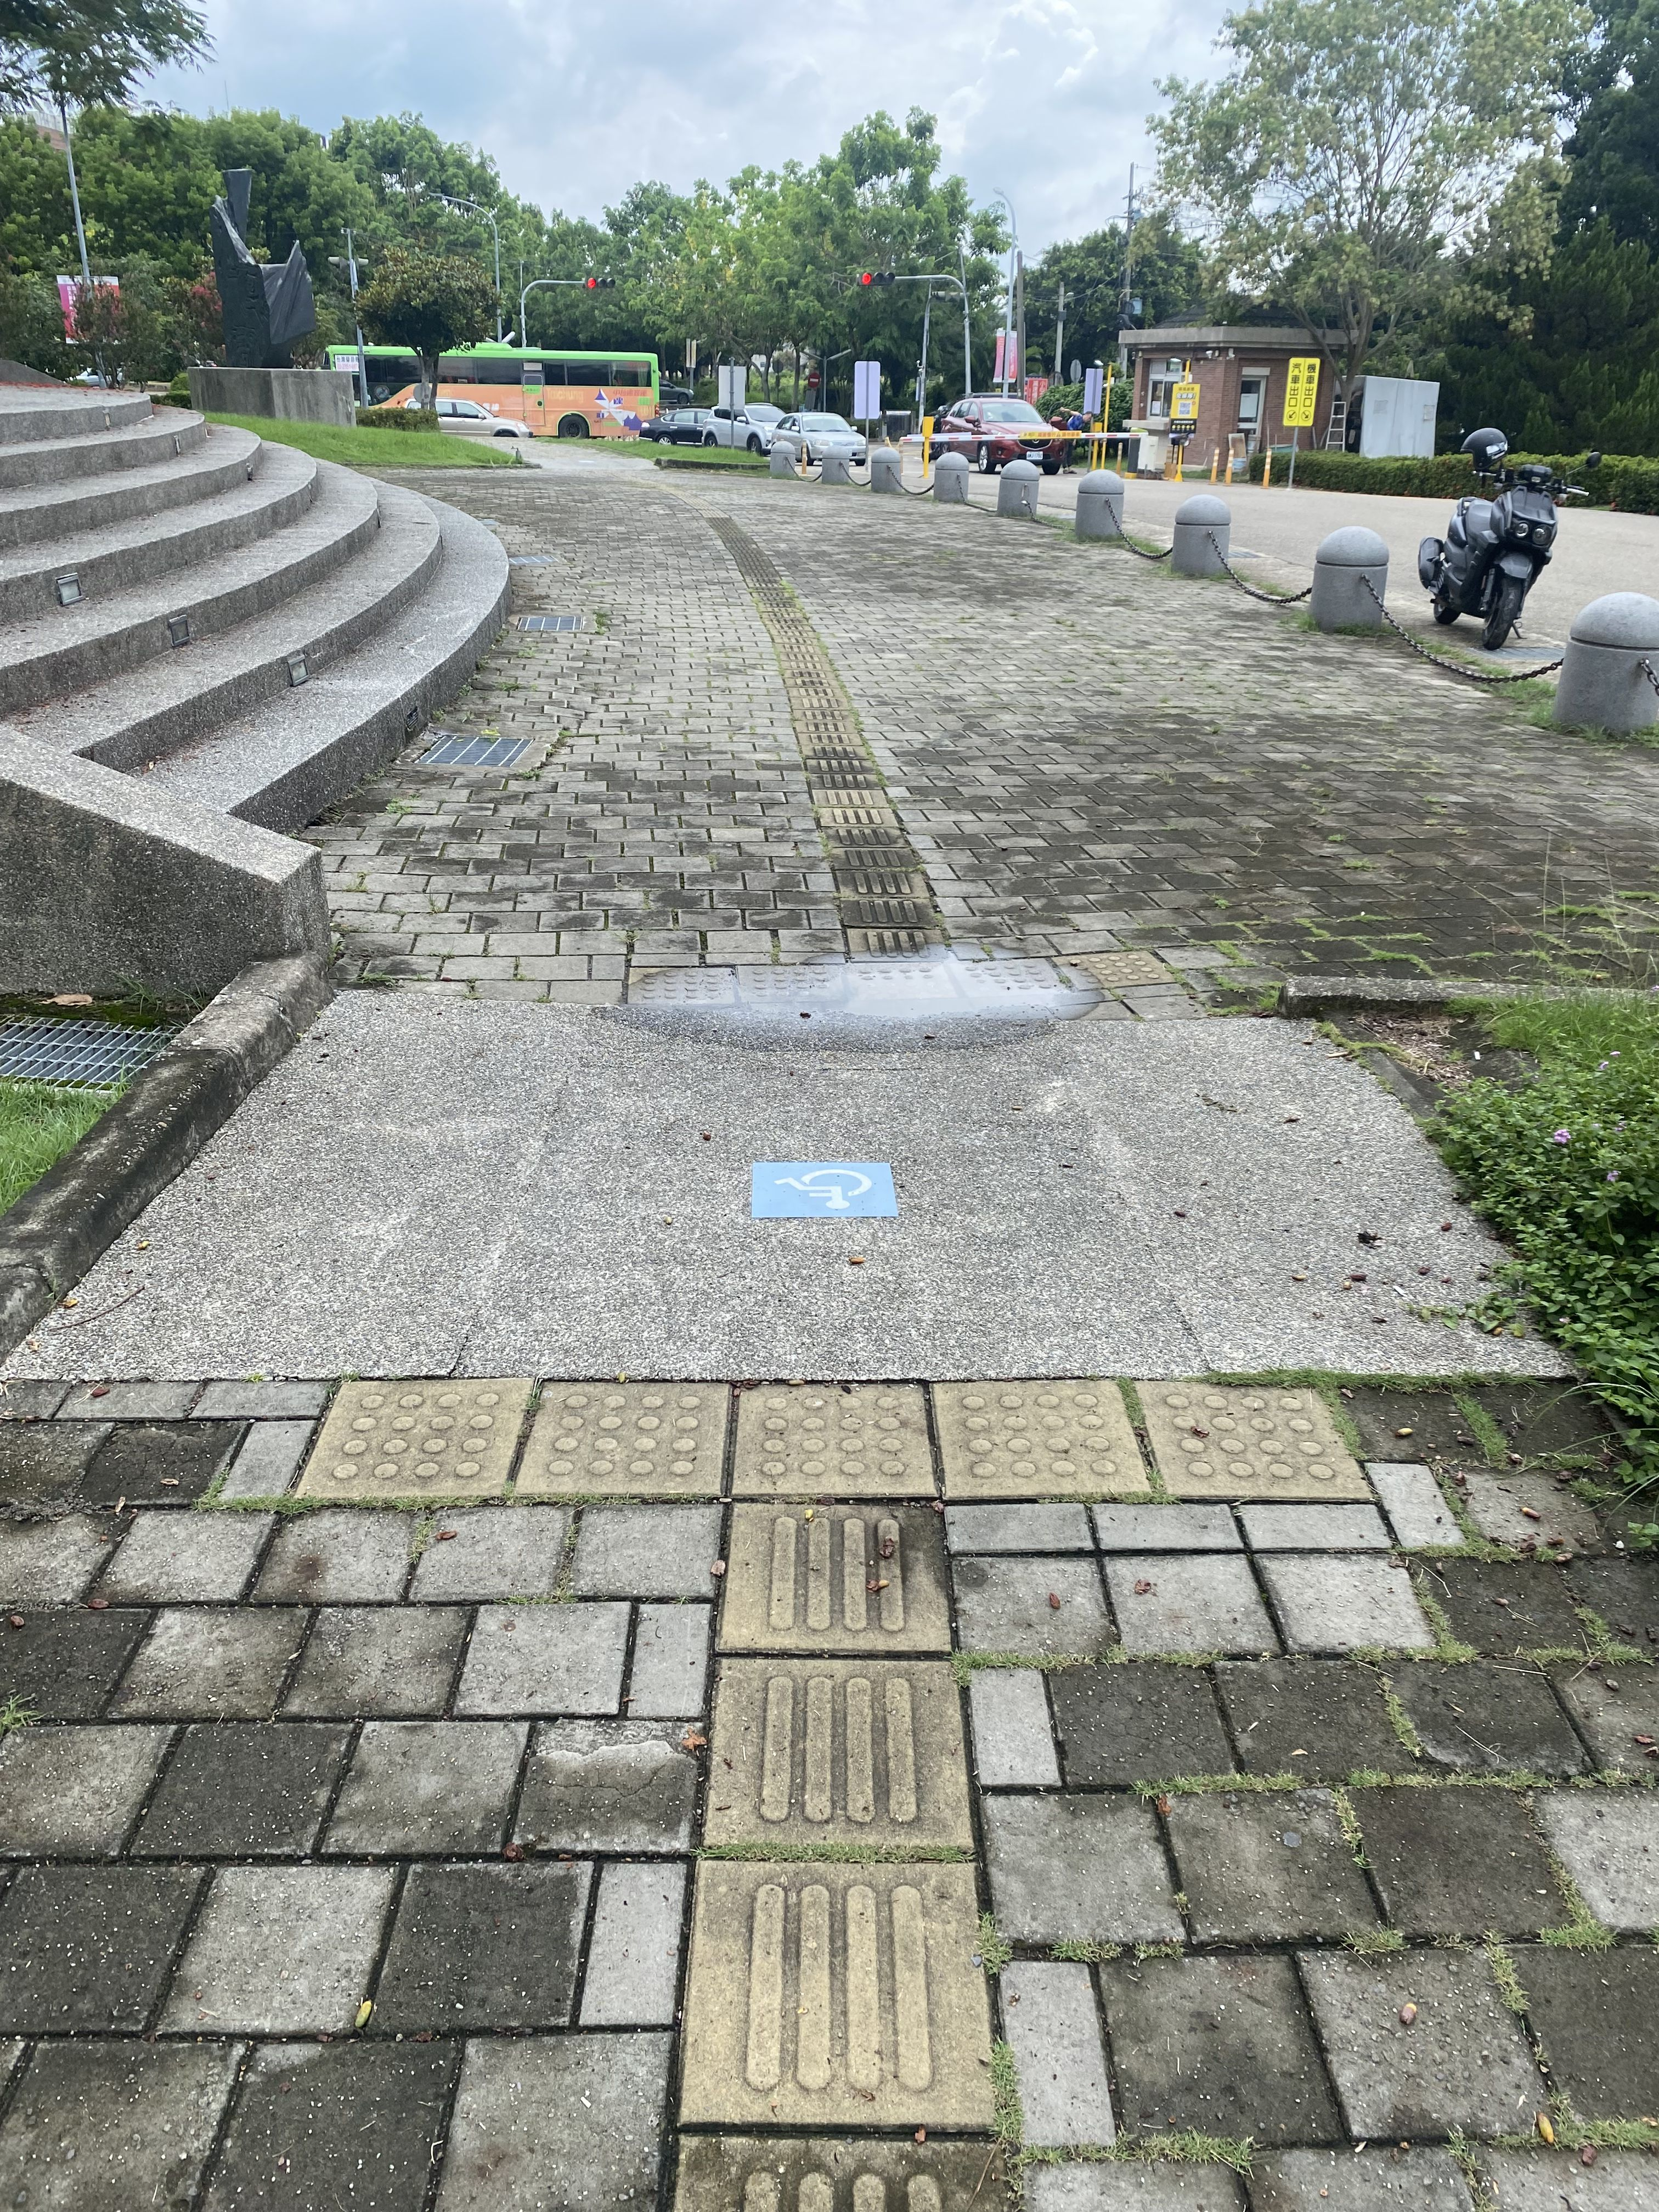0: (12, 996, 1659, 2212)
sidewalk: (317, 430, 1659, 1251)
